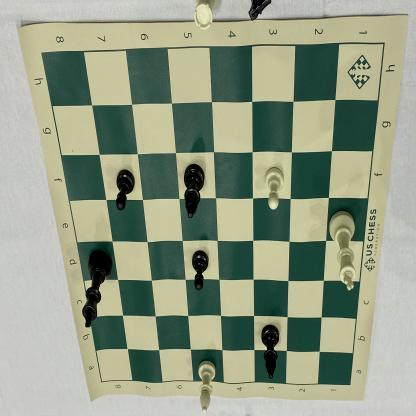bishop: (178, 162, 206, 221)
black-bishop: (257, 320, 281, 384)
black-king: (78, 247, 114, 337)
black-pawn: (114, 165, 136, 216), (191, 249, 210, 296)
white-bishop: (194, 355, 218, 416)
white-king: (328, 206, 362, 296)
white-pawn: (261, 164, 287, 216)
